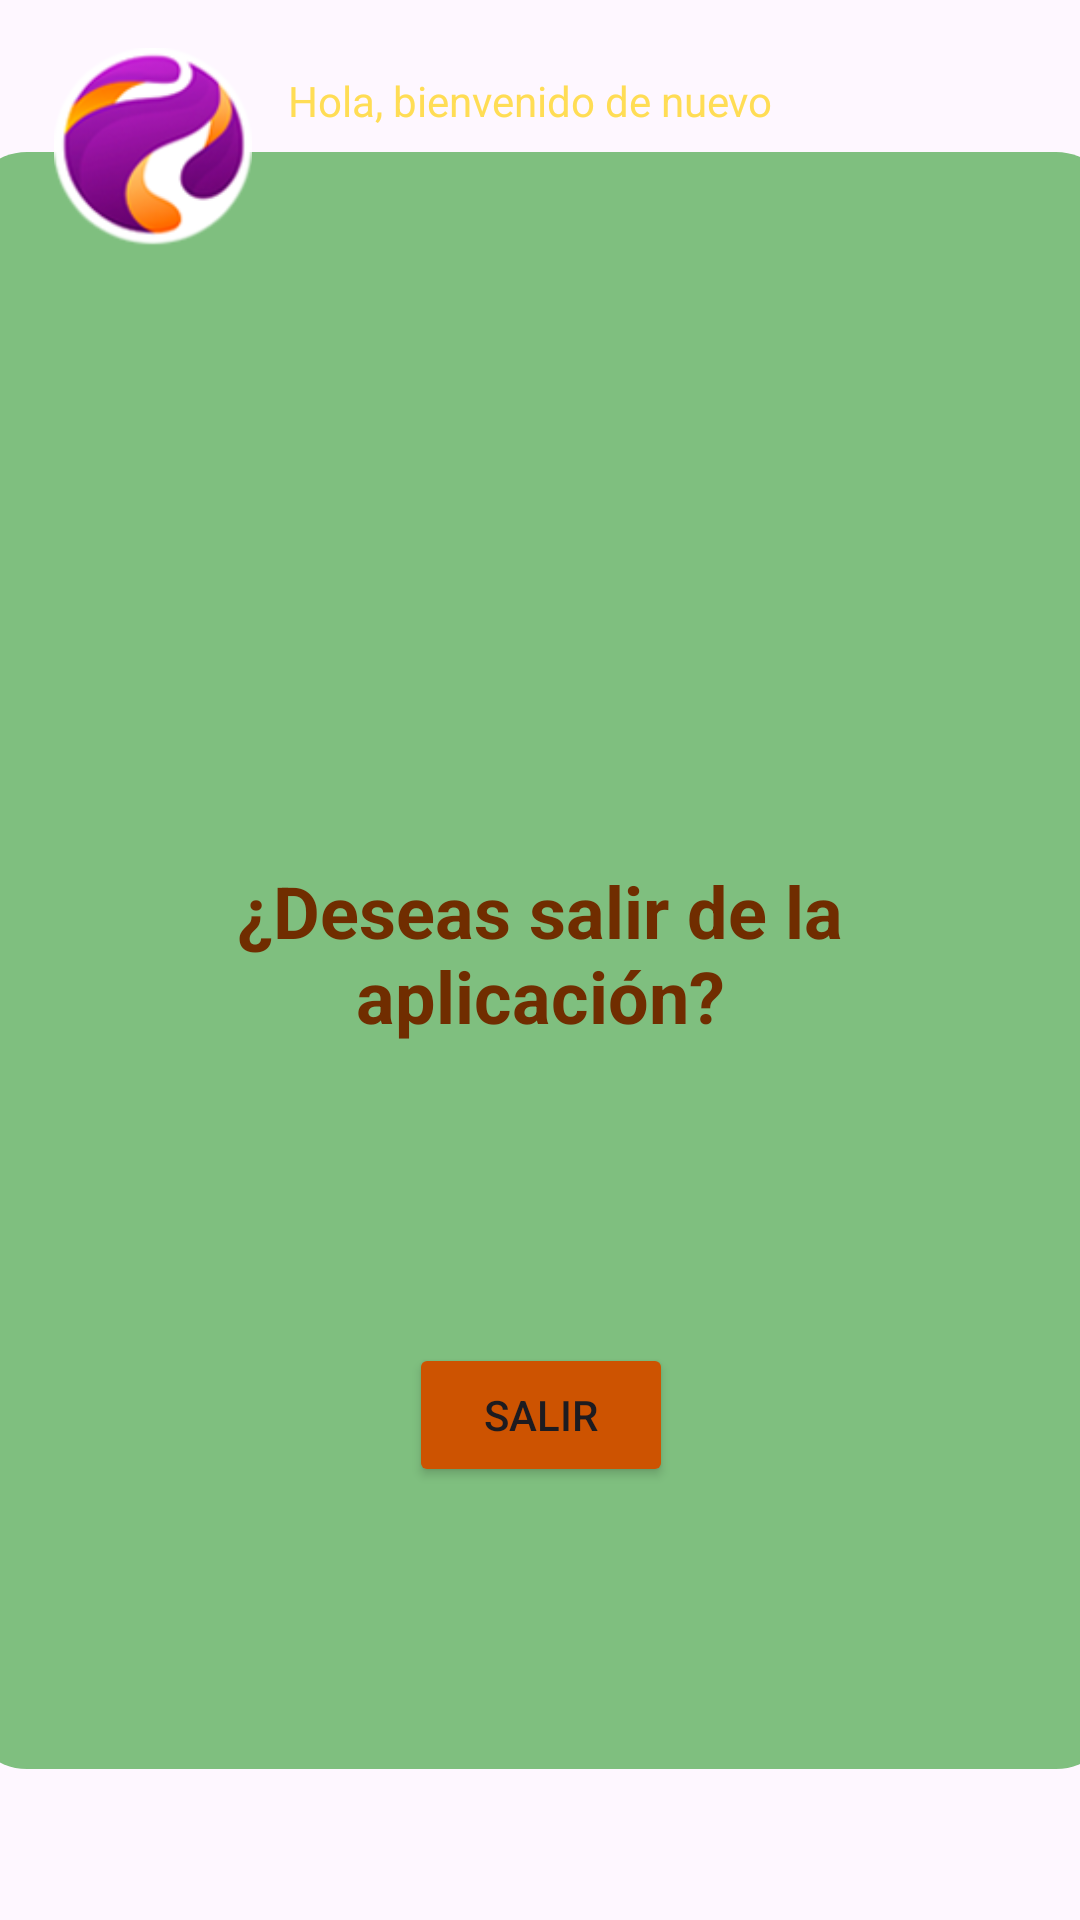

Icon click points for this 1080 × 1920 phone screenshot, format (x,y):
generic company: (153,147)
